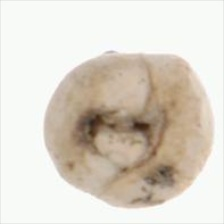L3: (80, 106, 158, 169)
L4: (43, 51, 214, 208)
